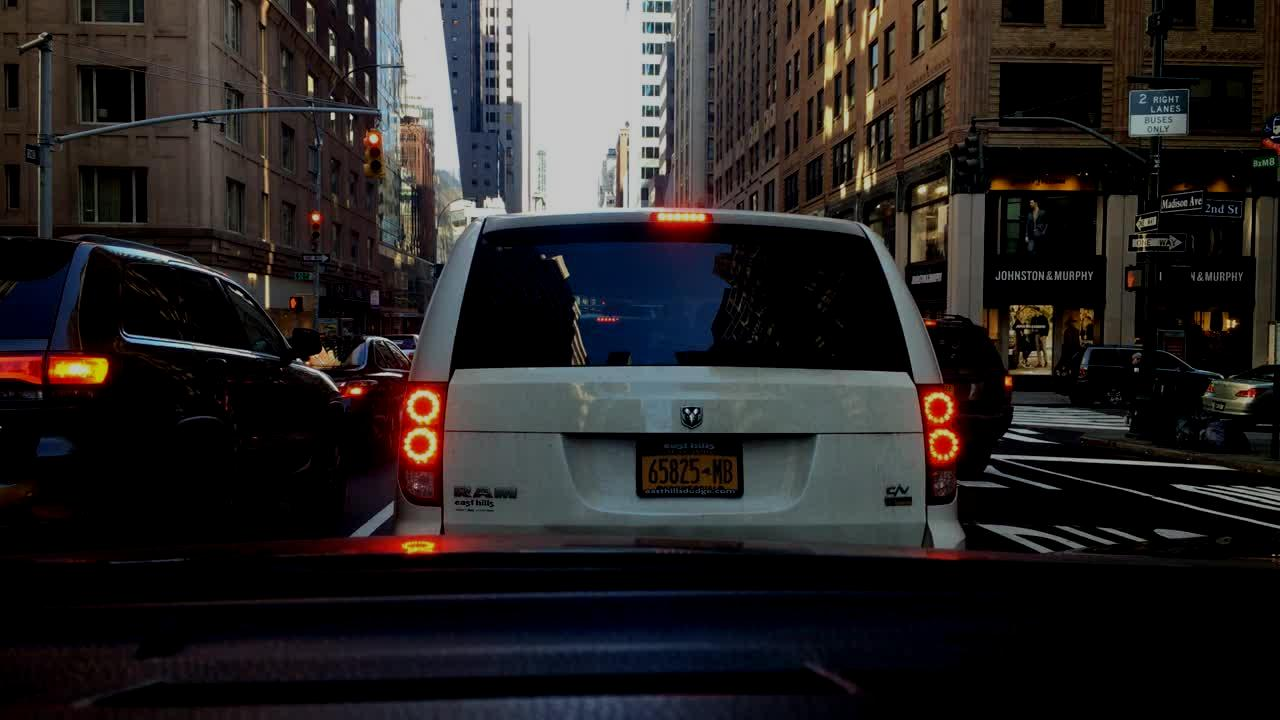ram: (676, 399, 709, 438)
